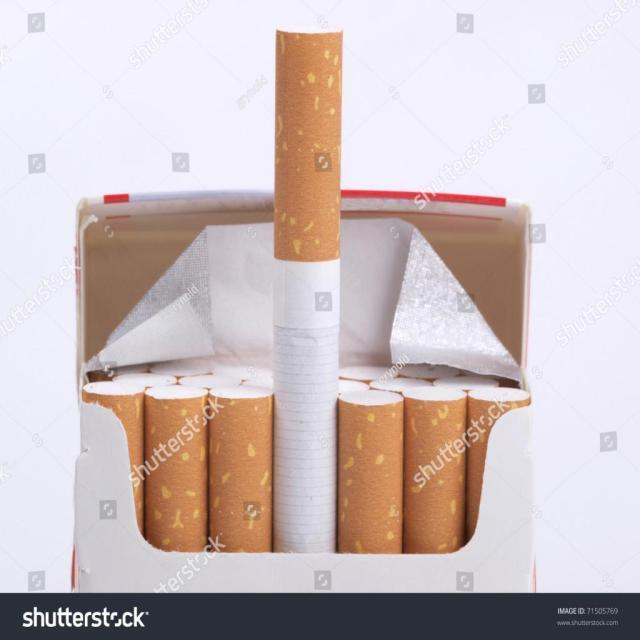smoking: (73, 26, 537, 594)
